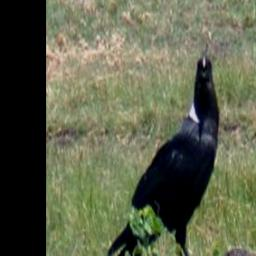Crow: (104, 51, 222, 256)
